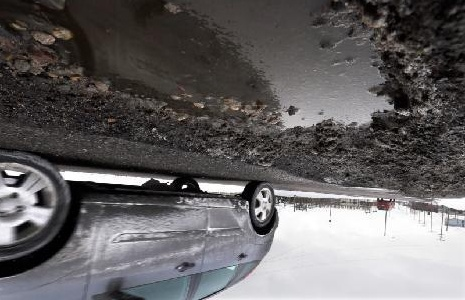pothole: (0, 1, 464, 195)
